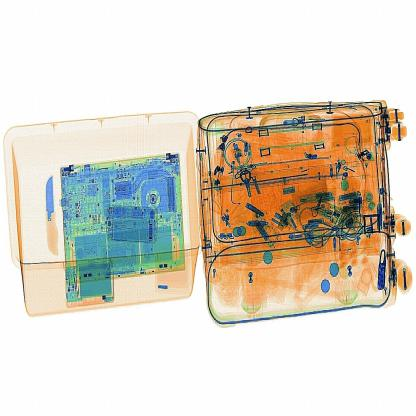wrench: (42, 172, 59, 262)
